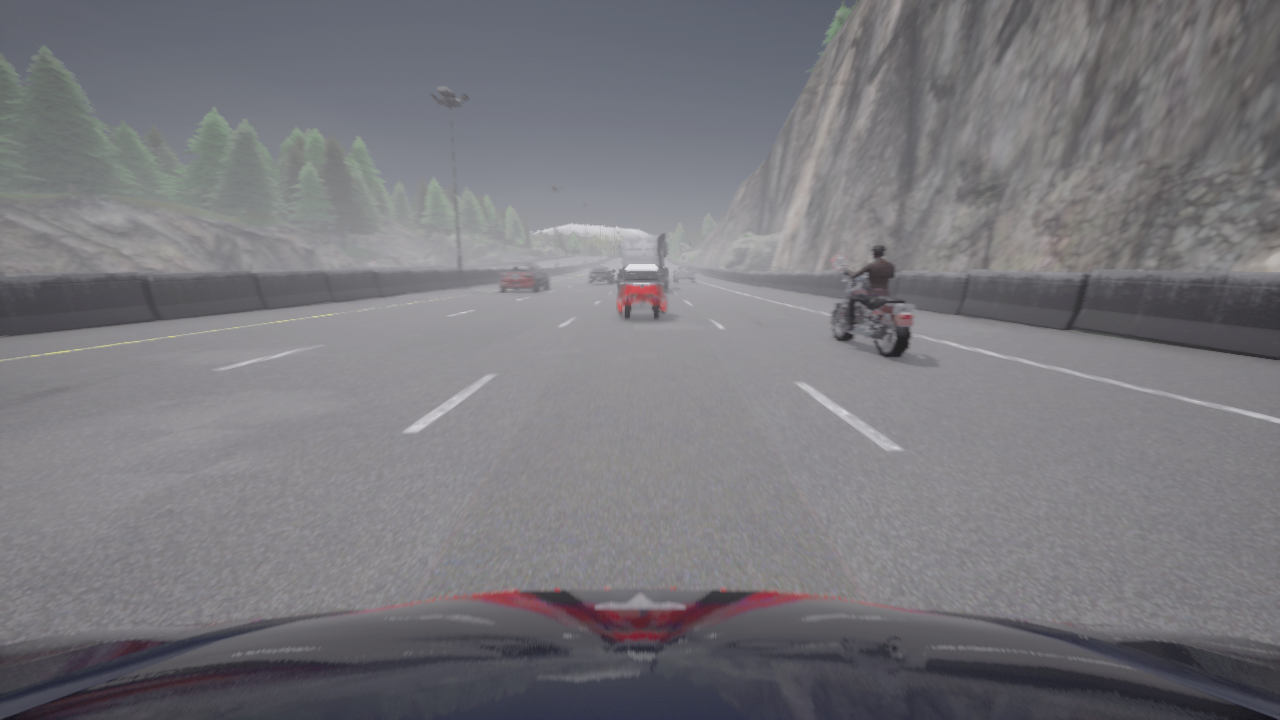cyclist: (0, 588, 1279, 719), (831, 267, 915, 358), (615, 265, 667, 319), (618, 234, 667, 291), (499, 262, 548, 291), (588, 265, 614, 284), (673, 265, 695, 283)
